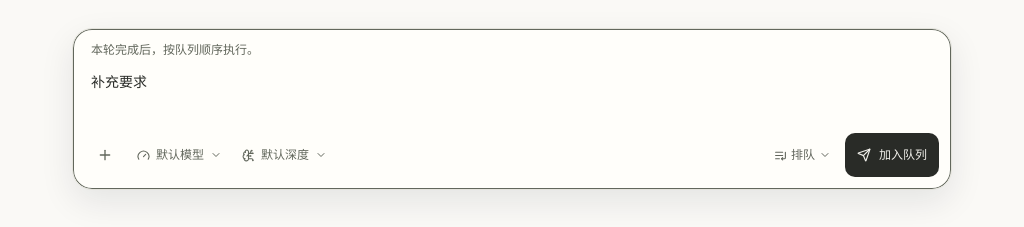
Test: Composer 浮层缺陷回归 › 发送模式菜单响应外部点击
This screenshot has width=1024, height=227.
Step 1. Click the button "排队" → [802, 155], box [766,135,839,175]
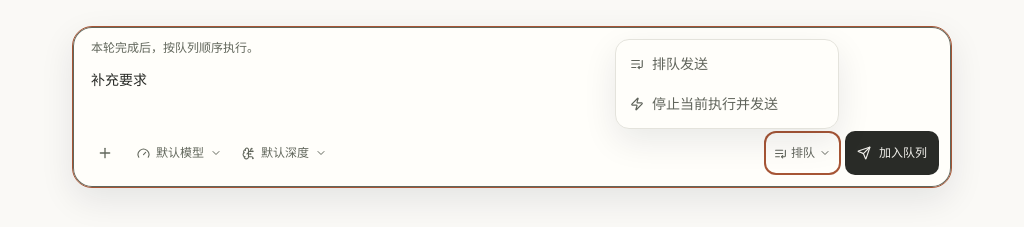
Expected: the button "排队发送" is shown, [620,44,834,84]
Step 2. Click the element showing "本轮完成后，按队列顺序执行。 默认模型 默认深度 排队 加入队列 排队发送 停止当前执行并发送" → [512, 105], box [0,0,1023,210]
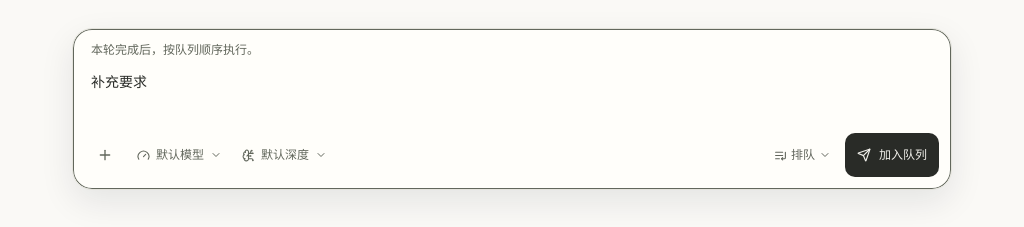
Expected: the button "排队发送" is gone
